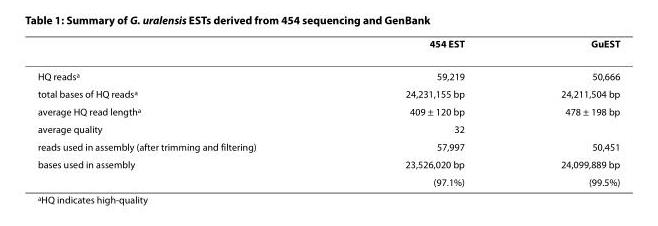table: (36, 36, 619, 187)
table column: (36, 36, 330, 187), (330, 36, 512, 187), (512, 36, 619, 187)
table column header: (36, 36, 619, 59)
table row: (36, 59, 619, 84), (36, 36, 619, 59), (36, 84, 619, 102), (36, 119, 619, 137), (36, 154, 619, 172), (36, 102, 619, 119), (36, 137, 619, 154), (36, 172, 619, 187)
table spanning cell: (36, 154, 330, 187)
